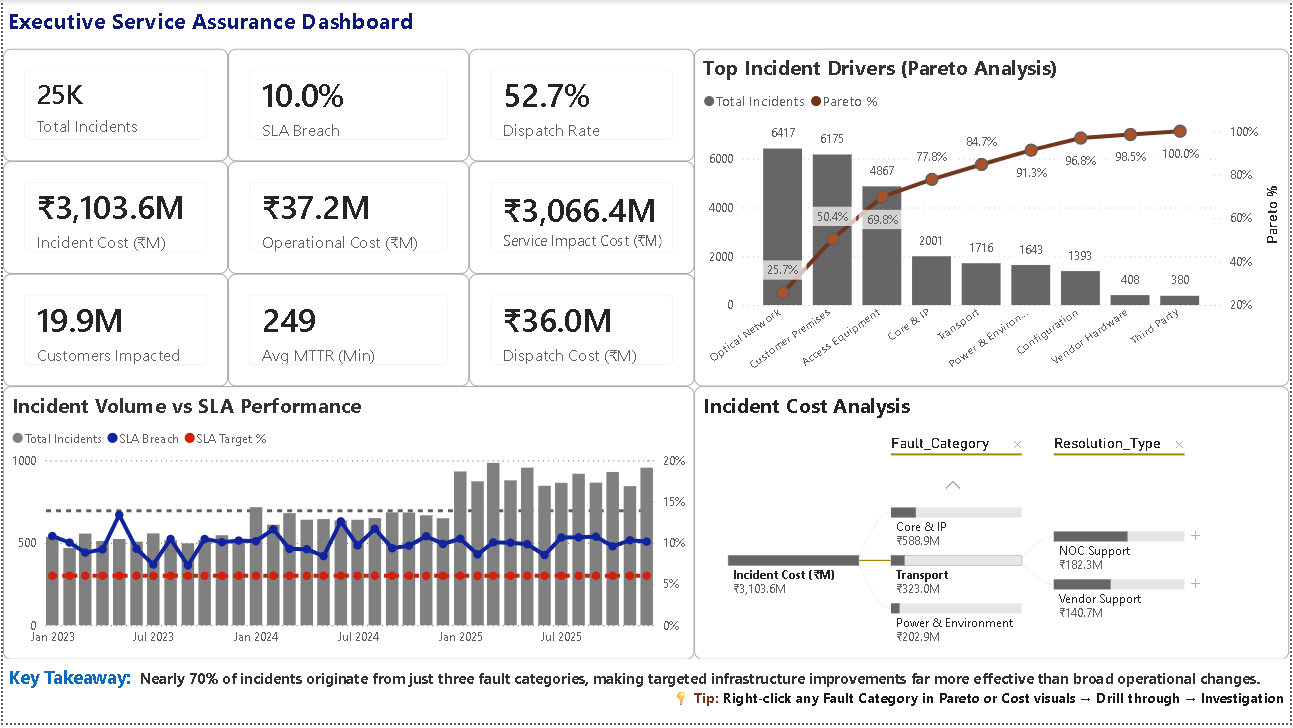

What the dashboard file says about the page in this screenshot:
{"tool":"powerbi","page":{"name":"Executive Service Assurance Dashboard","canvas":[1280,720],"ordinal":0},"visuals":[{"type":"cardVisual","fields":{"Data":["Measure.Total Incidents"]},"box":[0,48,224,112],"z":0},{"type":"cardVisual","fields":{"Data":["Measure.Average Resolution Time"]},"box":[224,272,240,112],"z":1000},{"type":"cardVisual","fields":{"Data":["Measure.SLA Breach Rate %"]},"box":[224,48,240,112],"z":2000},{"type":"cardVisual","fields":{"Data":["Measure.Total Customers Impacted"]},"box":[0,272,224,112],"z":3000},{"type":"cardVisual","fields":{"Data":["Measure.Operational Cost ($M)"]},"box":[224,160,240,112],"z":4000},{"type":"cardVisual","fields":{"Data":["Measure.Service Impact Cost ($M)"]},"box":[464,160,224,112],"z":5000},{"type":"cardVisual","fields":{"Data":["Measure.Incident Cost ($M)"]},"box":[0,160,224,112],"z":6000},{"type":"lineClusteredColumnComboChart","title":"Incident Volume vs SLA Performance","fields":{"Category":["Dim_Date.Year_Month_Label"],"Y":["Measure.Total Incidents"],"Y2":["Measure.SLA Breach Rate %","Measure.SLA Target %"]},"box":[0,384,688,272],"z":7000},{"type":"decompositionTreeVisual","title":"Incident Cost Analysis","fields":{"ExplainBy":["Dim_Fault.Fault_Category","Fact_Incident.Resolution_Type","Dim_Site.State_UT","Dim_VendorTechnology.Vendor"],"Analyze":["Measure.Incident Cost ($M)"]},"box":[688,384,592,272],"z":8000},{"type":"lineClusteredColumnComboChart","title":"Top Incident Drivers (Pareto Analysis)","fields":{"Category":["Dim_Fault.Fault_Category"],"Y":["Measure.Total Incidents"],"Y2":["Measure.Pareto %"]},"box":[688,48,592,336],"z":9000},{"type":"cardVisual","fields":{"Data":["Measure.Dispatch Cost ($M)"]},"box":[464,272,224,112],"z":10000},{"type":"cardVisual","fields":{"Data":["Measure.Dispatch Rate %"]},"box":[464,48,224,112],"z":11000},{"type":"textbox","box":[0,656,1280,64],"z":12000},{"type":"textbox","box":[0,0,816,48],"z":13000}]}

Visuals, with their boxes in screenshot pixels (x1, y1, x2, y2), scaled from the page's 1280x720 canvas onto the 1293x728 screenshot:
cardVisual - Measure.Total Incidents: crop(0, 49, 226, 162)
cardVisual - Measure.Average Resolution Time: crop(226, 275, 469, 388)
cardVisual - Measure.SLA Breach Rate %: crop(226, 49, 469, 162)
cardVisual - Measure.Total Customers Impacted: crop(0, 275, 226, 388)
cardVisual - Measure.Operational Cost ($M): crop(226, 162, 469, 275)
cardVisual - Measure.Service Impact Cost ($M): crop(469, 162, 695, 275)
cardVisual - Measure.Incident Cost ($M): crop(0, 162, 226, 275)
"Incident Volume vs SLA Performance" lineClusteredColumnComboChart: crop(0, 388, 695, 663)
"Incident Cost Analysis" decompositionTreeVisual: crop(695, 388, 1292, 663)
"Top Incident Drivers (Pareto Analysis)" lineClusteredColumnComboChart: crop(695, 49, 1292, 388)
cardVisual - Measure.Dispatch Cost ($M): crop(469, 275, 695, 388)
cardVisual - Measure.Dispatch Rate %: crop(469, 49, 695, 162)
textbox: crop(0, 663, 1292, 727)
textbox: crop(0, 0, 824, 49)
